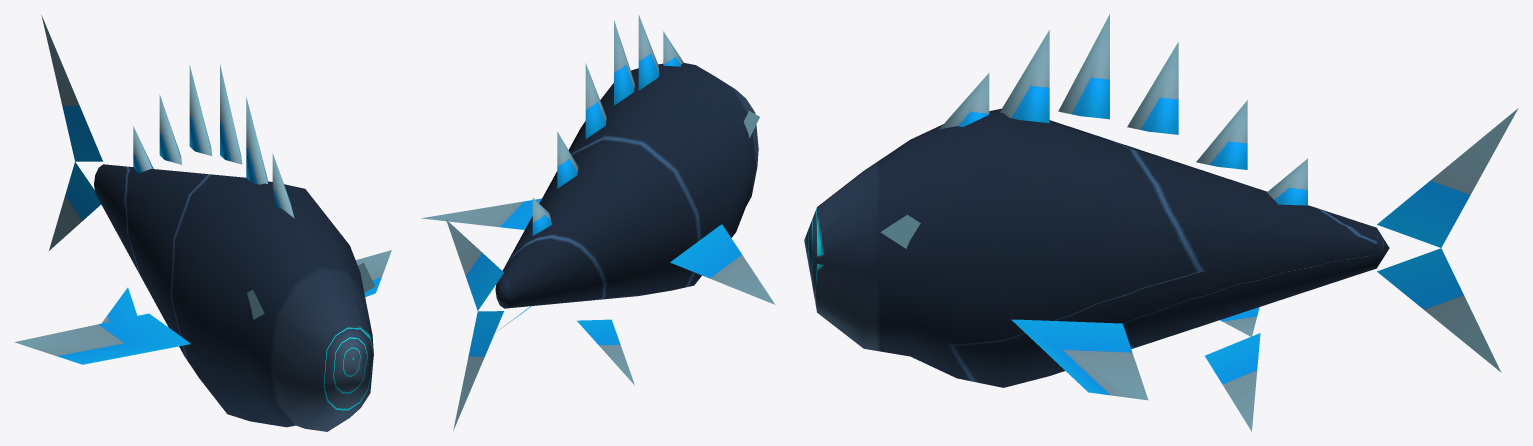
The model's file is smallFish.obj.
3 renders of one model, left to right at view 1: azimuth 30°, elevation 25°; view 2: azimuth 150°, elevation 25°; view 3: azimuth 270°, elevation 25°, orthographic. The views are drawn at different scales.
Parts seen in each view (by area): view 1: Fish_Body, Fish_Fins; view 2: Fish_Body, Fish_Fins; view 3: Fish_Body, Fish_Fins.
Boxes of the visible parts, left/top/right/bottom form: Fish_Body: left=94, top=164, right=375, bottom=431; Fish_Fins: left=14, top=15, right=391, bottom=364; Fish_Body: left=495, top=63, right=759, bottom=308; Fish_Fins: left=421, top=14, right=775, bottom=431; Fish_Body: left=804, top=108, right=1389, bottom=387; Fish_Fins: left=939, top=14, right=1518, bottom=431.
Bounding box in the file's own units: 1.16 × 0.95 × 1.66.
3 materials, 3 textured.
